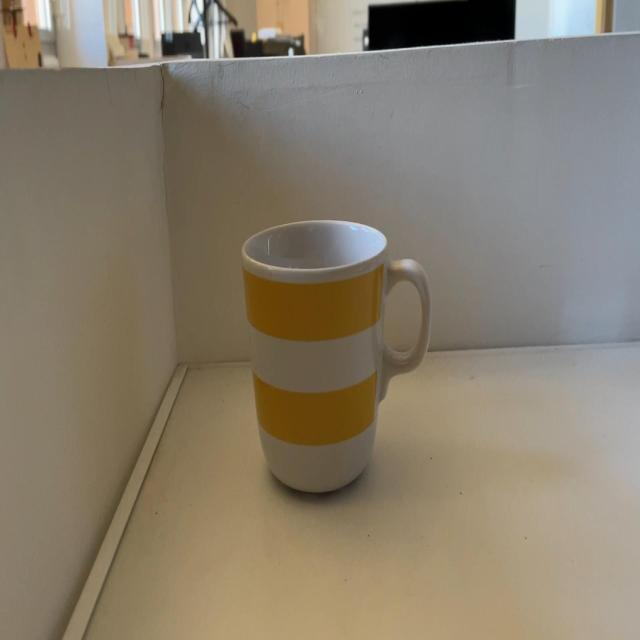cup: (232, 213, 449, 500)
